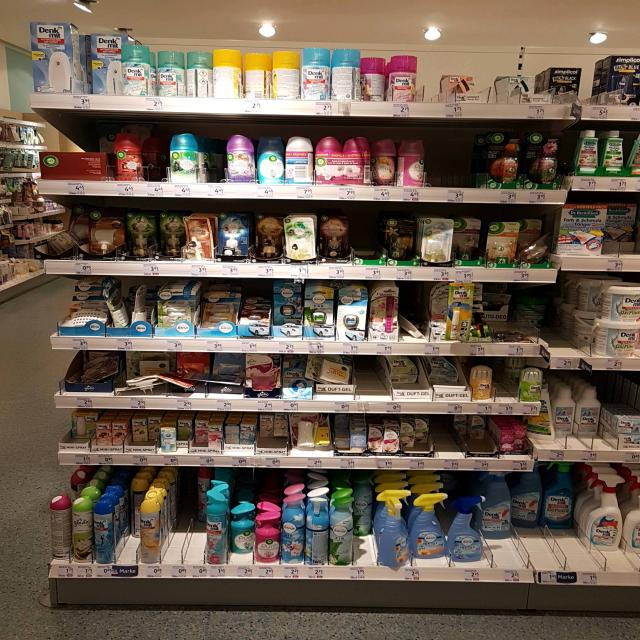void: (432, 126, 484, 190), (556, 282, 593, 355)
